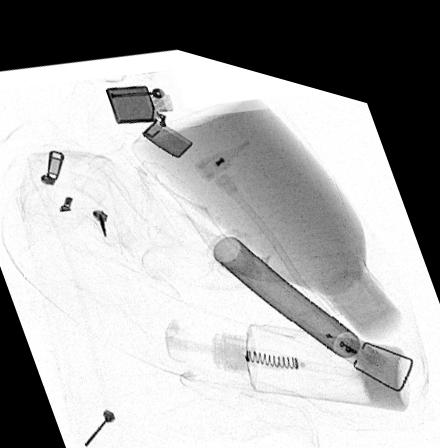Lighter: (106, 77, 193, 148)
